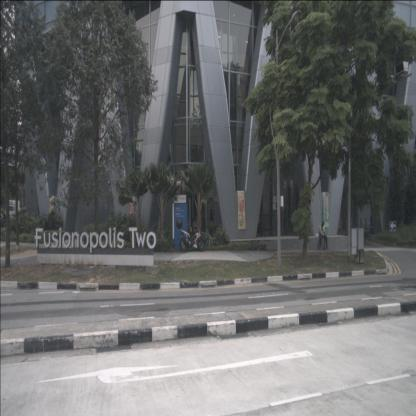human-pedestrian-adult: (318, 220, 328, 250), (209, 209, 214, 233)
vehicle-motorcycle: (176, 219, 205, 252)
vehicle-truck: (4, 200, 20, 221)
